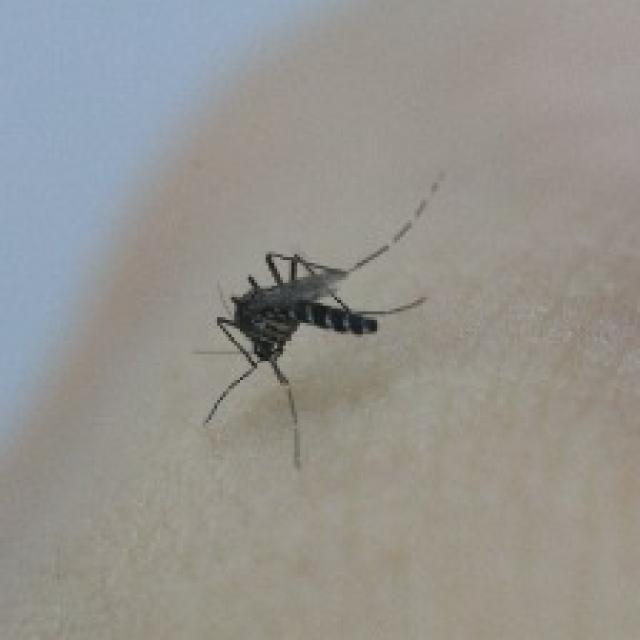aedes: (194, 168, 446, 468)
